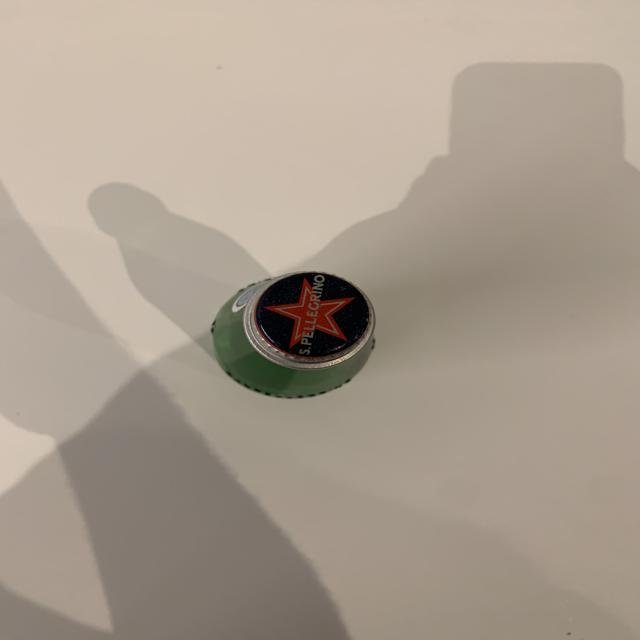glass: (210, 272, 376, 402)
